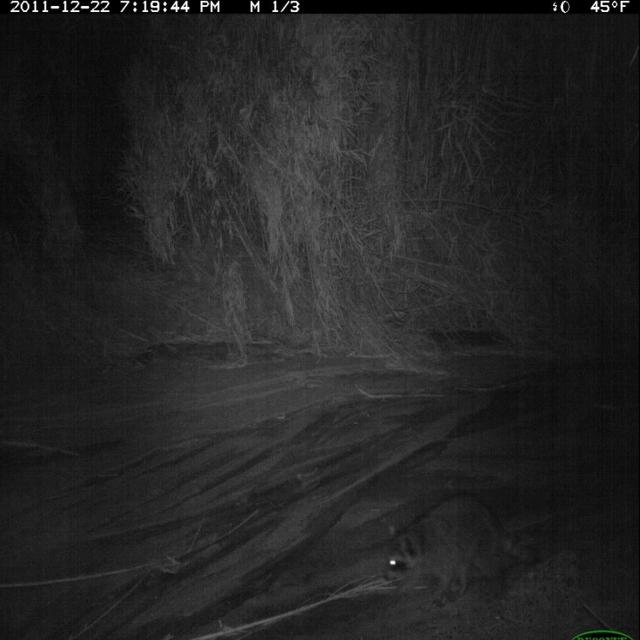raccoon: (385, 489, 561, 616)
